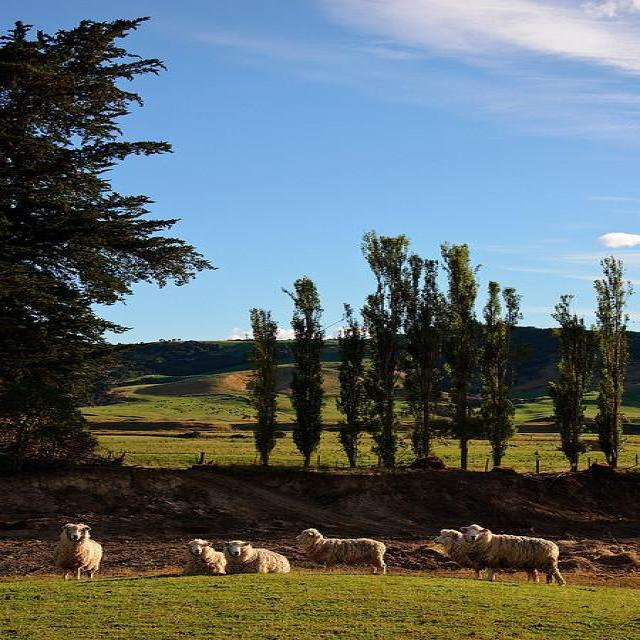Sheep: (461, 523, 570, 587), (296, 528, 388, 575), (434, 530, 486, 580), (223, 540, 290, 574)
